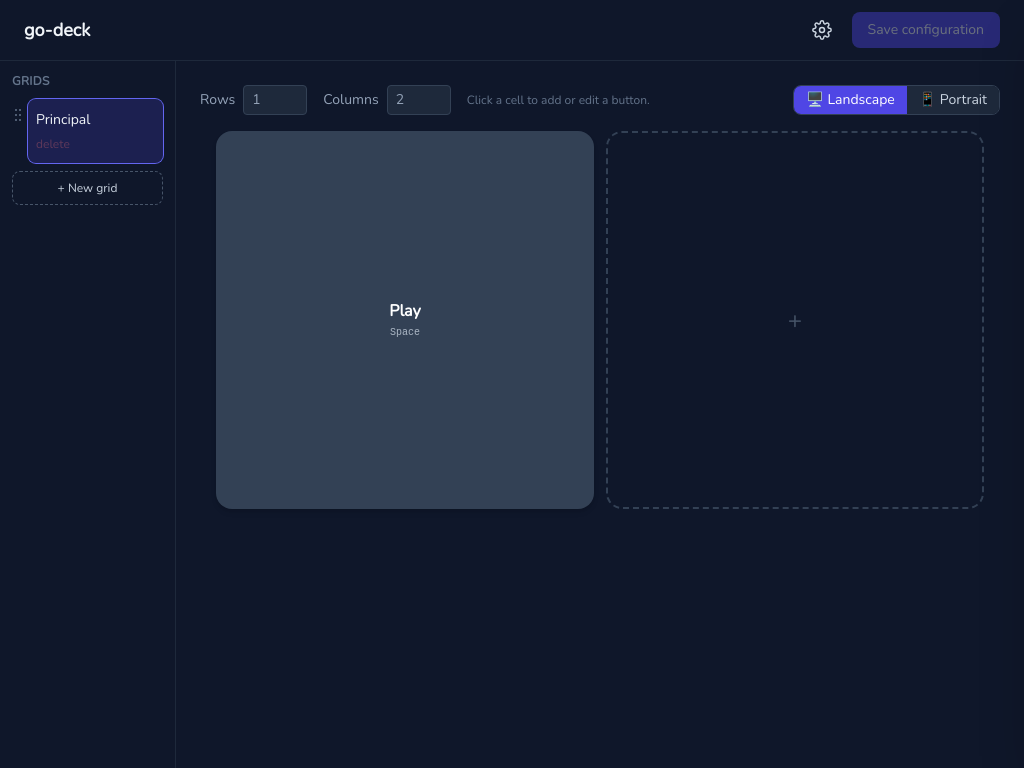
DesktopApp — config drawer e idioma › ajusta o tamanho do grid (linhas/colunas) sem órfãos
Check: the field showing "Principal" is shown, box [36, 110, 155, 130]
Step 1. Replace the text in the number field showing "2" with "3" → (419, 100), box [387, 85, 451, 115]
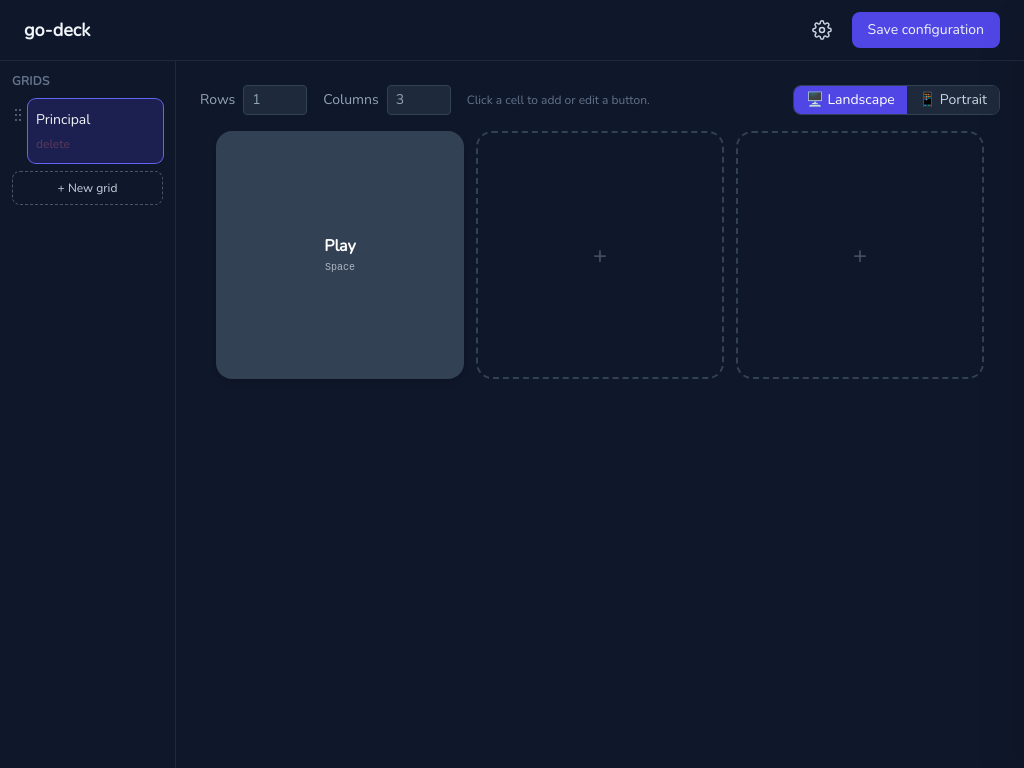
Check: the text "+" is shown 2 times, box [593, 243, 607, 267]; [853, 243, 867, 267]
